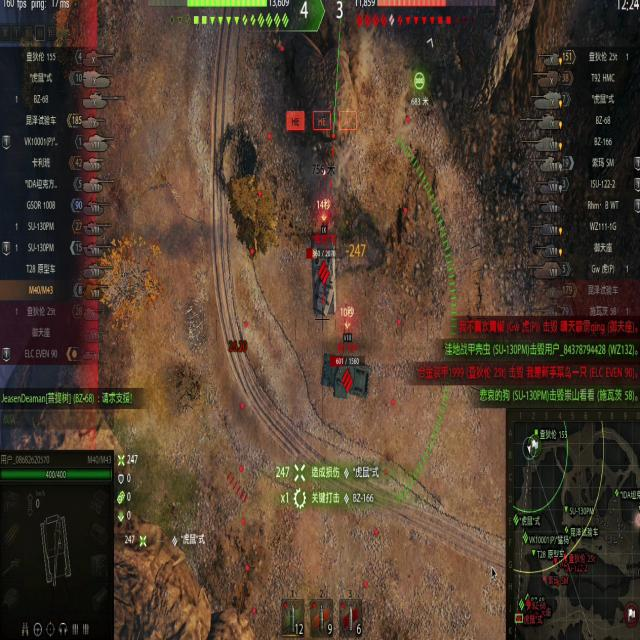tank: (307, 237, 345, 321), (319, 349, 374, 404)
